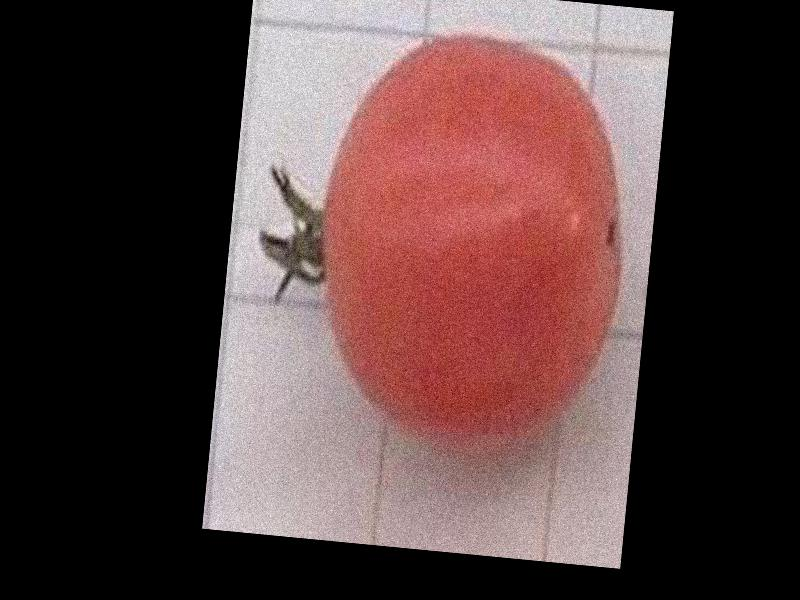Tomato: (304, 24, 642, 460)
